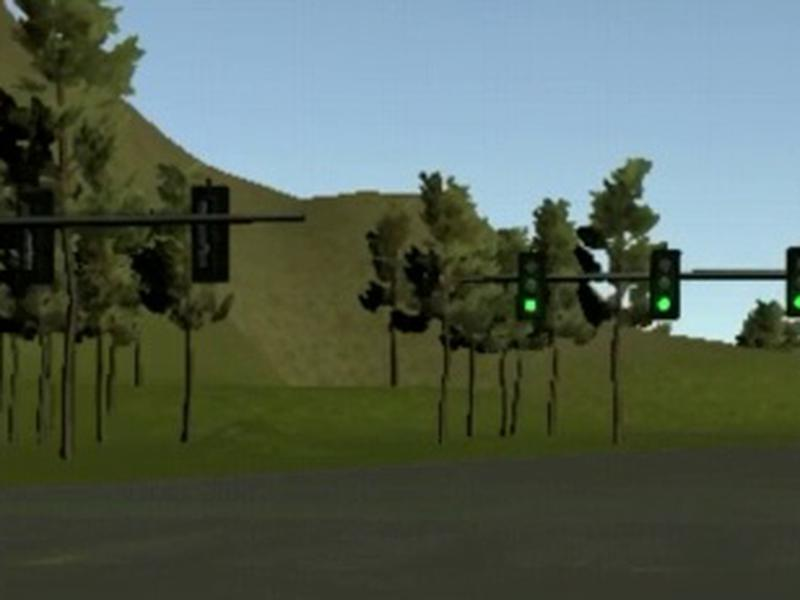Green: (648, 249, 681, 321), (516, 251, 547, 321), (786, 247, 800, 319)
